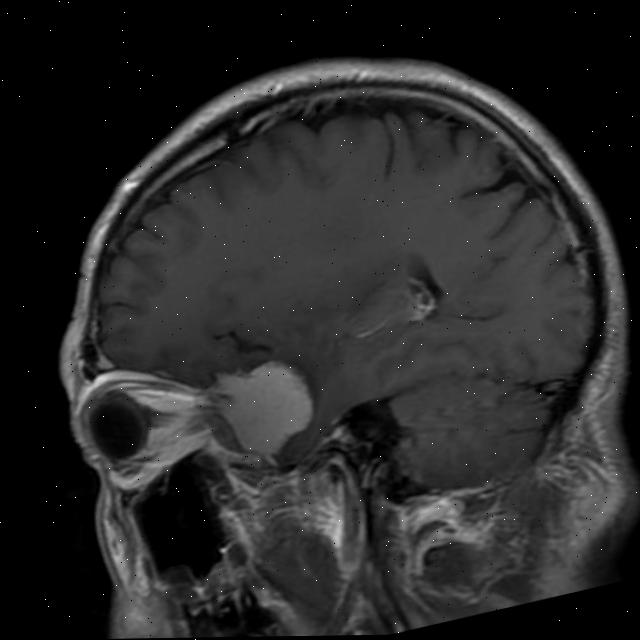Meningioma: (204, 347, 328, 467)
